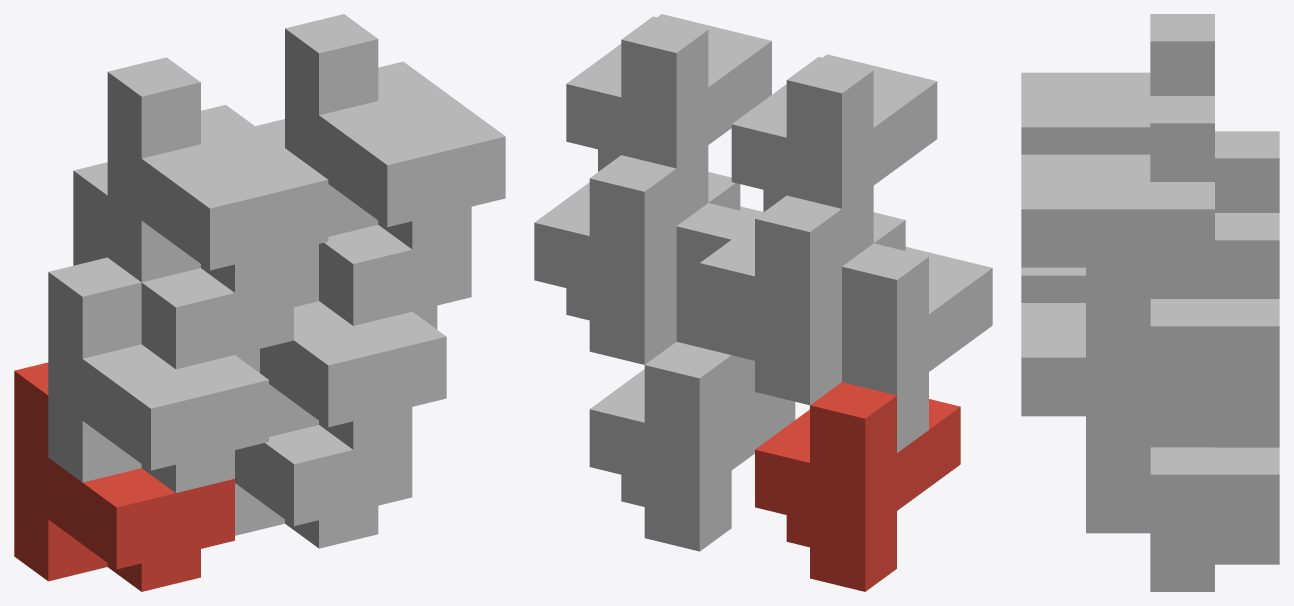
File: tiling.obj
3 views of the same model, side by side, from view 1: azimuth 30°, elevation 25°; view 2: azimuth 150°, elevation 25°; view 3: azimuth 270°, elevation 25° (orthographic). The views are drawn at different scales.
Visible parts, largest first — view 1: copy_1_domain_4, copy_1_domain_8, copy_1_domain_2, copy_1_domain_1, copy_1_domain_6, copy_1_domain_5, copy_1_domain_3, copy_1_domain_7; view 2: copy_1_domain_1, copy_1_domain_5, copy_1_domain_4, copy_1_domain_8, copy_1_domain_7, copy_1_domain_3, copy_1_domain_2, copy_1_domain_6; view 3: copy_1_domain_8, copy_1_domain_7, copy_1_domain_5, copy_1_domain_4, copy_1_domain_6, copy_1_domain_3, copy_1_domain_2.
Boxes of the visible parts, box(x1,y1,x2,y2) form: copy_1_domain_4: box(107, 57, 328, 292); copy_1_domain_8: box(285, 14, 505, 249); copy_1_domain_2: box(48, 257, 268, 492); copy_1_domain_1: box(14, 362, 234, 591); copy_1_domain_6: box(260, 244, 446, 449); copy_1_domain_5: box(235, 425, 412, 548); copy_1_domain_3: box(73, 162, 293, 372); copy_1_domain_7: box(255, 119, 471, 329); copy_1_domain_1: box(755, 382, 960, 591); copy_1_domain_5: box(589, 341, 795, 551); copy_1_domain_4: box(731, 54, 937, 266); copy_1_domain_8: box(566, 14, 771, 225); copy_1_domain_7: box(534, 155, 740, 364); copy_1_domain_3: box(699, 195, 905, 405); copy_1_domain_2: box(842, 243, 992, 452); copy_1_domain_6: box(676, 203, 763, 412); copy_1_domain_8: box(1021, 96, 1214, 326); copy_1_domain_7: box(1086, 213, 1279, 443); copy_1_domain_5: box(1086, 416, 1279, 591); copy_1_domain_4: box(1021, 14, 1214, 154); copy_1_domain_6: box(1021, 303, 1214, 474); copy_1_domain_3: box(1215, 131, 1279, 212); copy_1_domain_2: box(1021, 267, 1085, 302).
Size of the model in its own units: 6 by 8 by 4.
